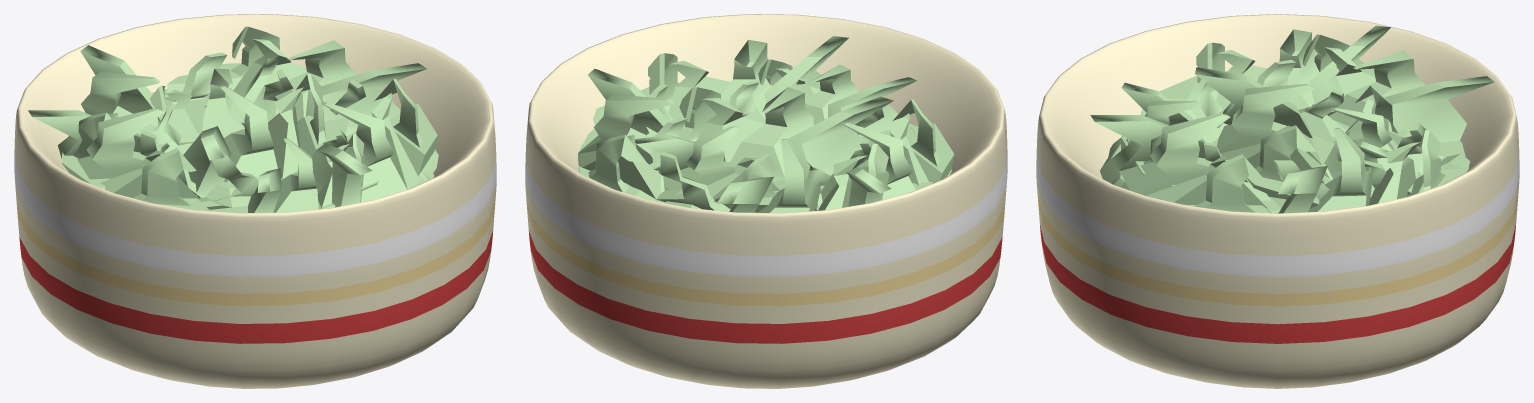
The model's file is lettuce_v1.fbx.
The picture shows the model from 3 angles, left to right: view 1: azimuth 30°, elevation 25°; view 2: azimuth 150°, elevation 25°; view 3: azimuth 270°, elevation 25°; orthographic projection.
Visible parts, largest first — view 1: lettuce_bowl_v2:nurbsToPoly38, lettuce_bowl_v2:pDisc3, lettuce_bowl_v2:pDisc1, lettuce_bowl_v2:pDisc4, lettuce_bowl_v2:pDisc6, lettuce_bowl_v2:pDisc8, lettuce_bowl_v2:pDisc5, lettuce_bowl_v2:pDisc7; view 2: lettuce_bowl_v2:nurbsToPoly38, lettuce_bowl_v2:pDisc6, lettuce_bowl_v2:pDisc4, lettuce_bowl_v2:pDisc3, lettuce_bowl_v2:pDisc1, lettuce_bowl_v2:pDisc5, lettuce_bowl_v2:pDisc8, lettuce_bowl_v2:pDisc7; view 3: lettuce_bowl_v2:nurbsToPoly38, lettuce_bowl_v2:pDisc3, lettuce_bowl_v2:pDisc5, lettuce_bowl_v2:pDisc6, lettuce_bowl_v2:pDisc4, lettuce_bowl_v2:pDisc1, lettuce_bowl_v2:pDisc8, lettuce_bowl_v2:pDisc7.
Boxes of the visible parts, bbox=[...] form: lettuce_bowl_v2:nurbsToPoly38: bbox=[14, 14, 496, 388]; lettuce_bowl_v2:pDisc3: bbox=[166, 74, 438, 207]; lettuce_bowl_v2:pDisc1: bbox=[28, 108, 350, 211]; lettuce_bowl_v2:pDisc4: bbox=[152, 26, 426, 128]; lettuce_bowl_v2:pDisc6: bbox=[183, 69, 348, 196]; lettuce_bowl_v2:pDisc8: bbox=[150, 58, 281, 209]; lettuce_bowl_v2:pDisc5: bbox=[62, 45, 429, 209]; lettuce_bowl_v2:pDisc7: bbox=[158, 107, 378, 213]; lettuce_bowl_v2:nurbsToPoly38: bbox=[525, 14, 1007, 388]; lettuce_bowl_v2:pDisc6: bbox=[625, 87, 893, 193]; lettuce_bowl_v2:pDisc4: bbox=[578, 69, 824, 211]; lettuce_bowl_v2:pDisc3: bbox=[584, 36, 918, 209]; lettuce_bowl_v2:pDisc1: bbox=[820, 99, 954, 206]; lettuce_bowl_v2:pDisc5: bbox=[580, 133, 934, 213]; lettuce_bowl_v2:pDisc8: bbox=[634, 126, 911, 212]; lettuce_bowl_v2:pDisc7: bbox=[664, 59, 916, 210]; lettuce_bowl_v2:nurbsToPoly38: bbox=[1036, 14, 1519, 388]; lettuce_bowl_v2:pDisc3: bbox=[1090, 113, 1470, 213]; lettuce_bowl_v2:pDisc5: bbox=[1108, 34, 1494, 187]; lettuce_bowl_v2:pDisc6: bbox=[1195, 67, 1413, 208]; lettuce_bowl_v2:pDisc4: bbox=[1278, 104, 1469, 213]; lettuce_bowl_v2:pDisc1: bbox=[1115, 25, 1390, 200]; lettuce_bowl_v2:pDisc8: bbox=[1126, 85, 1405, 213]; lettuce_bowl_v2:pDisc7: bbox=[1121, 83, 1334, 209].
Size of the model in its own units: 5.45 by 3.23 by 5.45.
